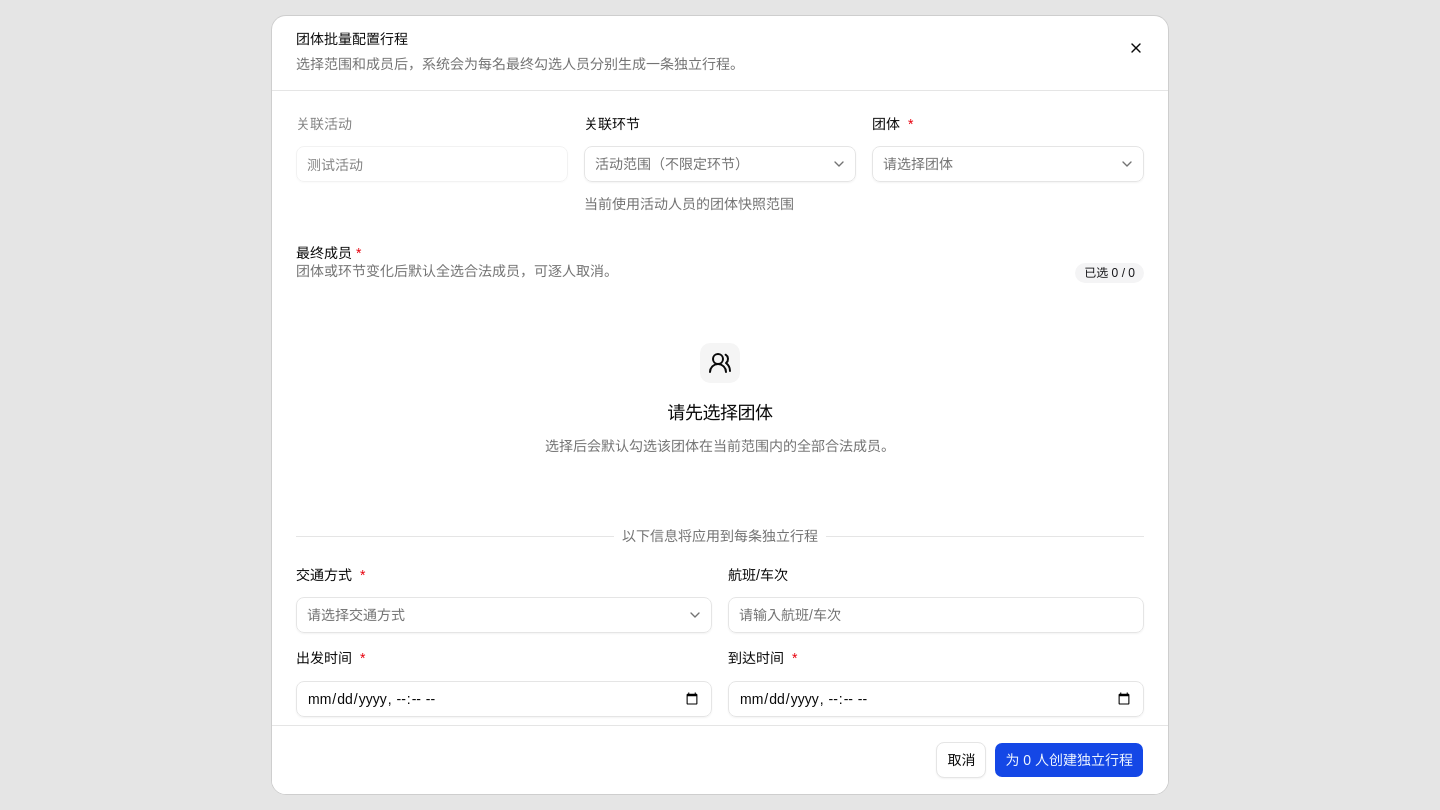
TripBatchDialog › 明确每人生成独立行程，并在缺少范围选择时就地展示字段错误
expect the text "选择范围和成员后，系统会为每名最终勾选人员分别生成一条独立行程。" is shown: met, box [296,56,744,72]
Click the button "为 0 人创建独立行程": [1069, 760] box [994,742,1144,778]
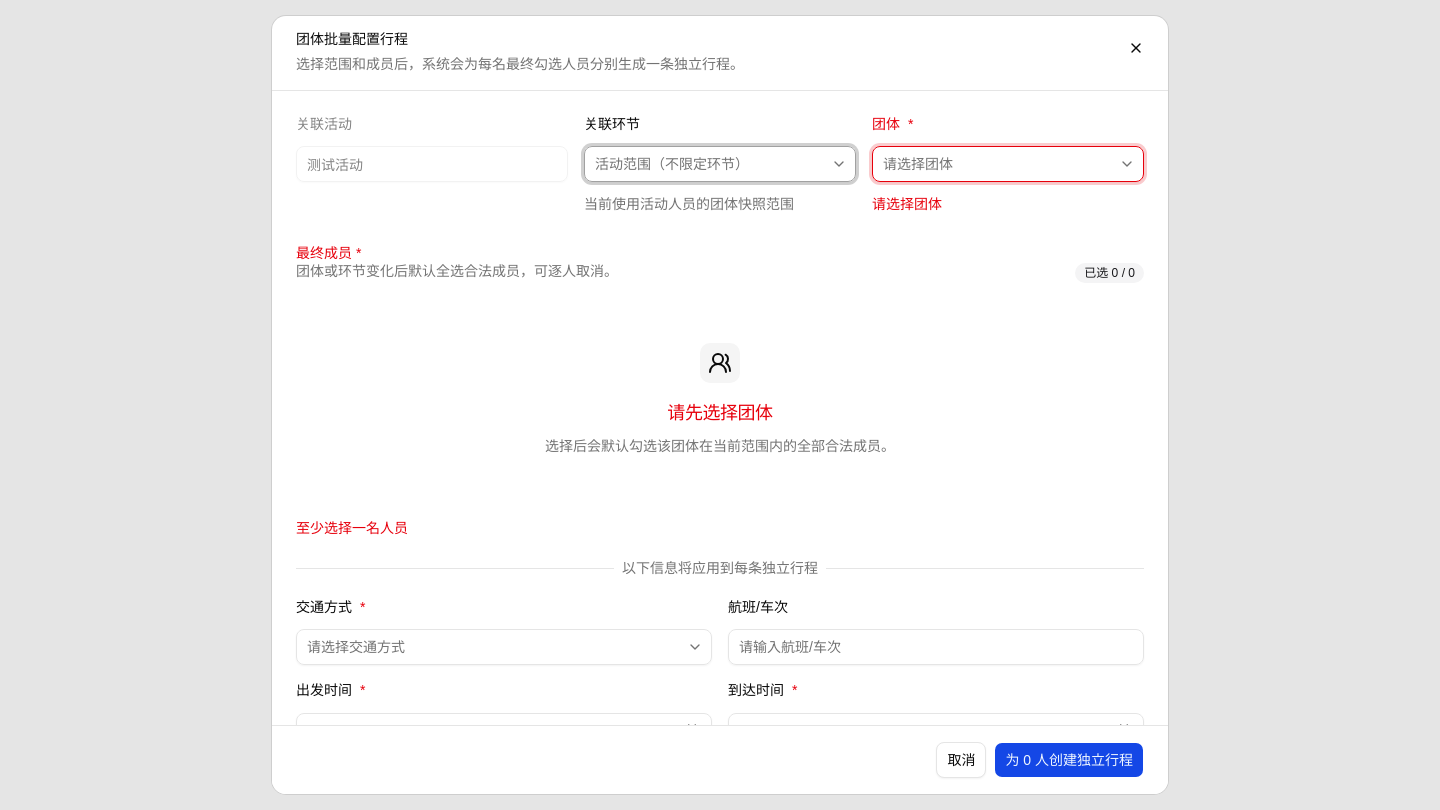
expect the text "请选择团体" is shown 2 times: met, box [883,156,953,172]; [872,196,942,212]
expect the text "至少选择一名人员" is shown: met, box [296,520,408,536]
